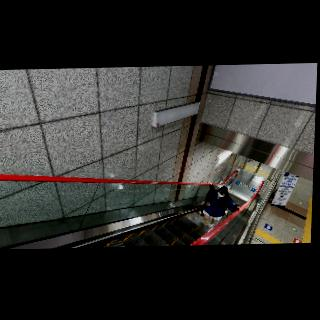normal: (202, 186, 244, 232)
